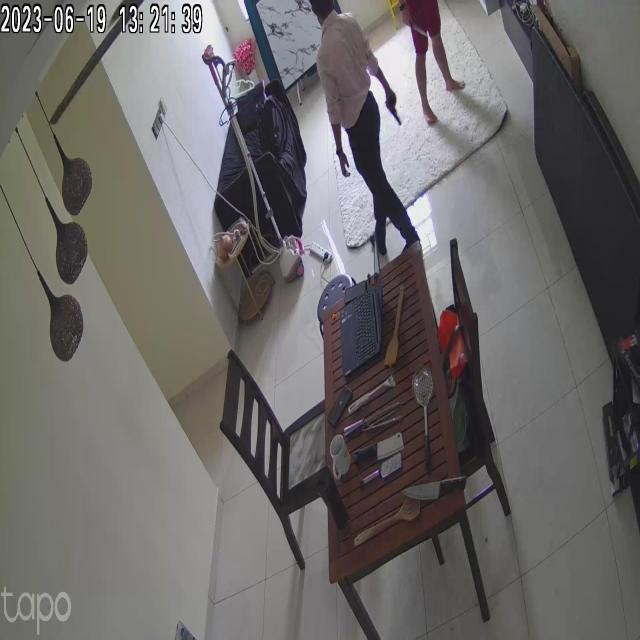Gun: (381, 89, 408, 129)
Knife: (402, 473, 476, 502)
